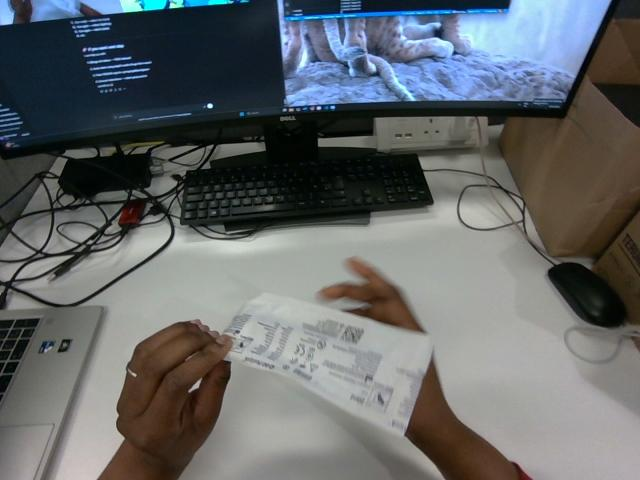gallipot: (221, 293, 432, 434)
